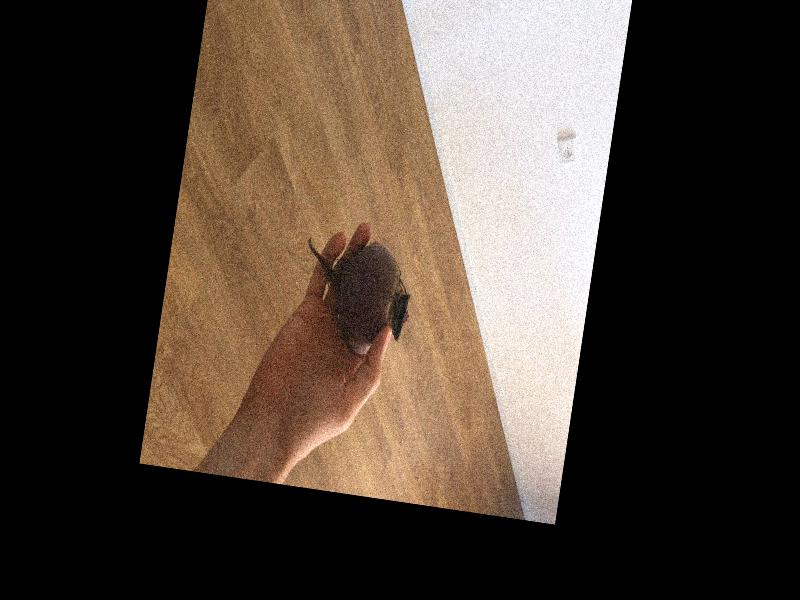Beet: (293, 231, 416, 359)
